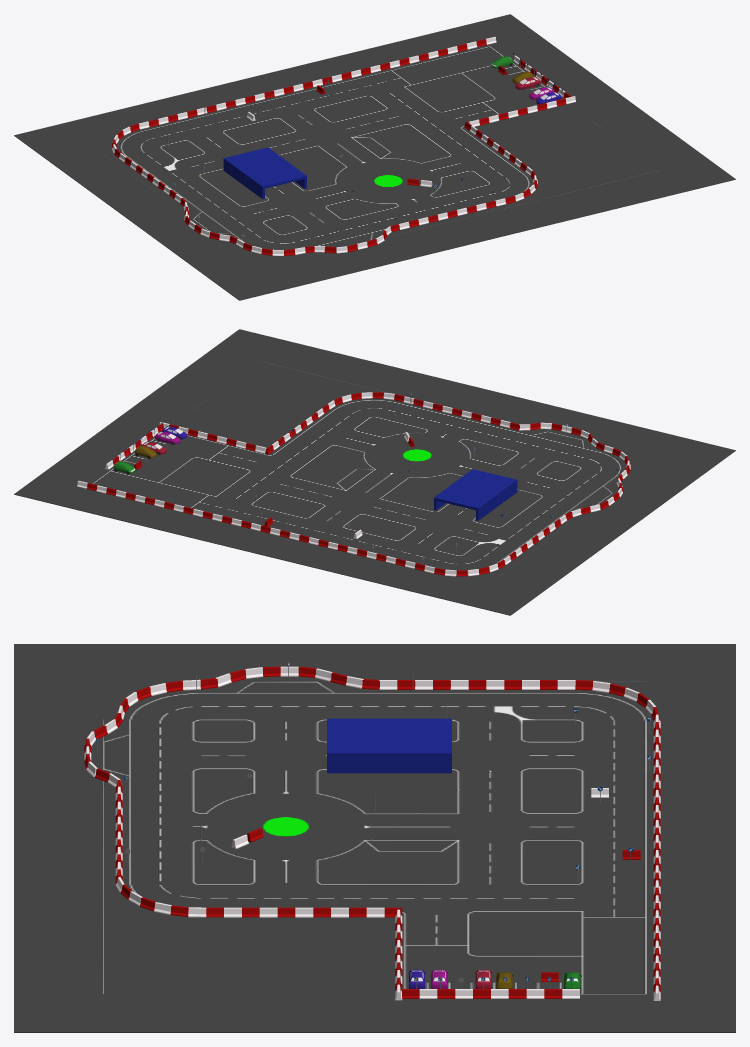
The model's file is harita8temmuz.dae.
3 views of the same model, one above another, from view 1: azimuth 30°, elevation 25°; view 2: azimuth 150°, elevation 25°; view 3: azimuth 270°, elevation 25° (orthographic). The views are drawn at different scales.
Visible parts, largest first — view 1: Cube.148, Cube.150, Cube.152, Cube.151, Cube.149, Cube.145; view 2: Cube.148, Cube.152, Cube.150, Cube.151, Cube.149, Cube.145; view 3: Cube.148, Cube.150, Cube.151, Cube.149, Cube.152, Cube.145.
Part boxes in pixels (x1,y1,x2,y2): Cube.148: (90,46,659,267); Cube.150: (260,170,687,288); Cube.152: (14,123,287,300); Cube.151: (463,14,735,191); Cube.149: (62,26,489,143); Cube.145: (223,147,306,199); Cube.148: (92,361,659,582); Cube.152: (462,438,735,615); Cube.150: (260,341,687,458); Cube.151: (14,329,286,506); Cube.149: (62,489,489,603); Cube.145: (434,469,517,520); Cube.148: (103,681,646,994); Cube.150: (14,681,102,994); Cube.151: (14,994,735,1032); Cube.149: (647,681,735,994); Cube.152: (14,644,735,681); Cube.145: (327,718,451,773).
Size of the model in its own units: 103 by 81 by 2.95.
59 materials, 24 textured.
